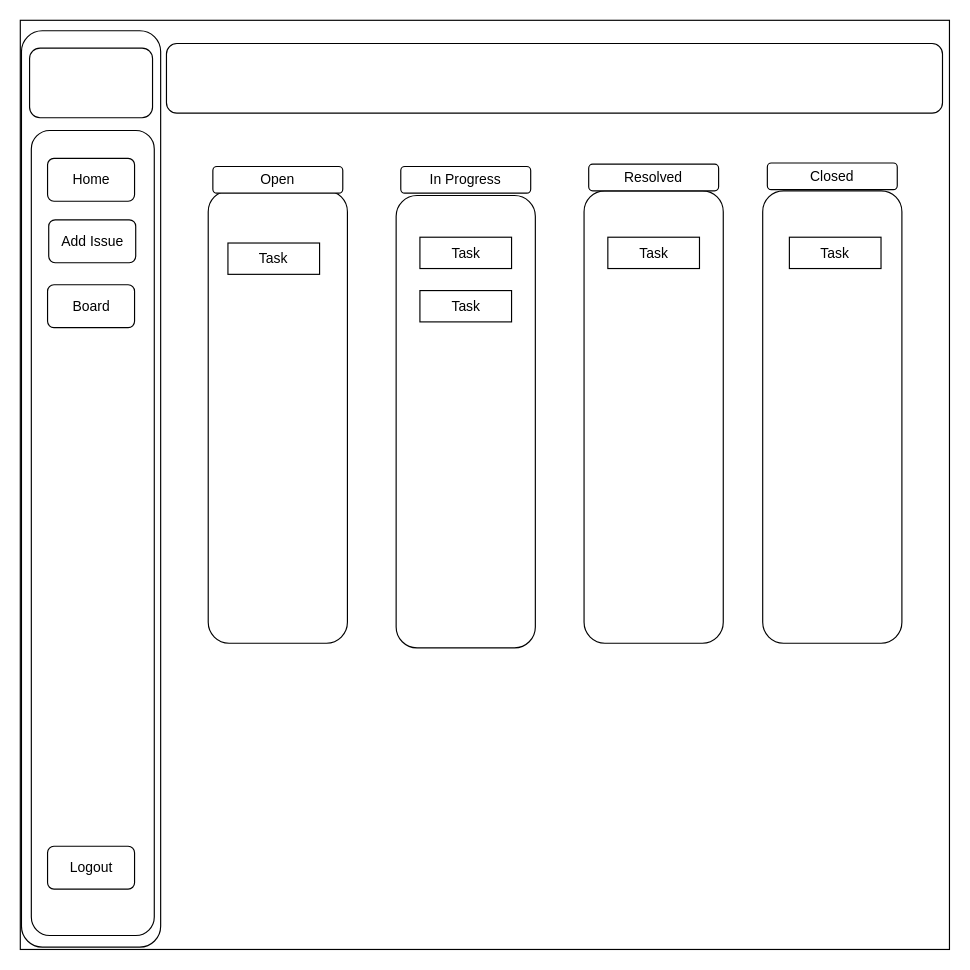
Image size: 970x970. Some labels were removed from this diagram. The shapes that lost their labels are listed below. From the top down, each one's centre as x and y in pixels, then its label:
[90,82]: Profile
[553,77]: DEPARTMENT
